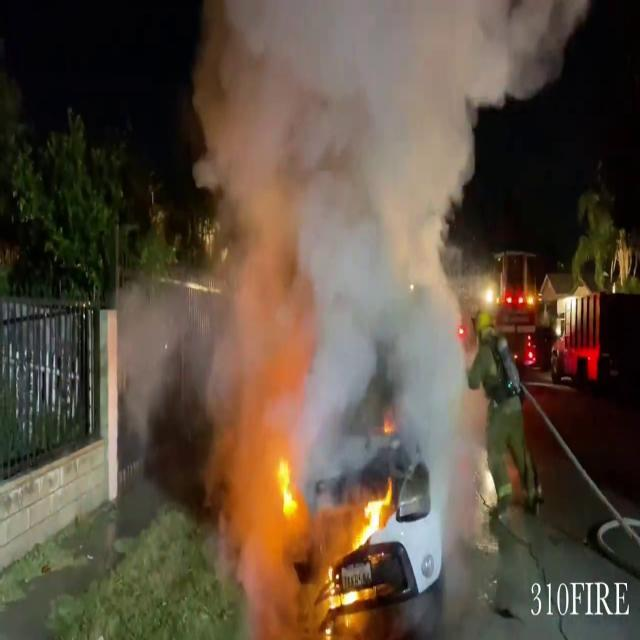Fire: (326, 478, 398, 564), (274, 454, 301, 526)
Smoke: (168, 0, 504, 457)
